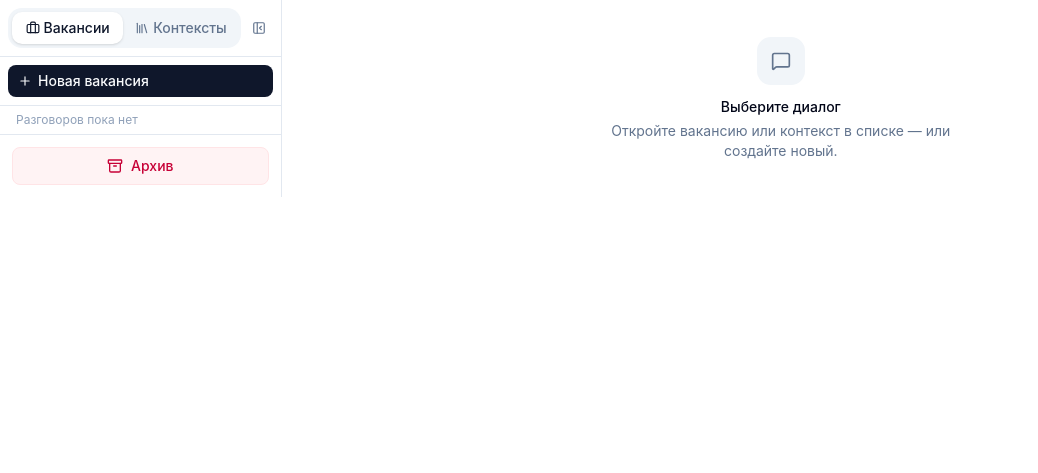
it: ChatPage — раздел «Чаты» › «Новая вакансия» открывает форму создания с полями друг под другом
Click the button "Новая вакансия" at (140, 81), box [8, 65, 273, 97]
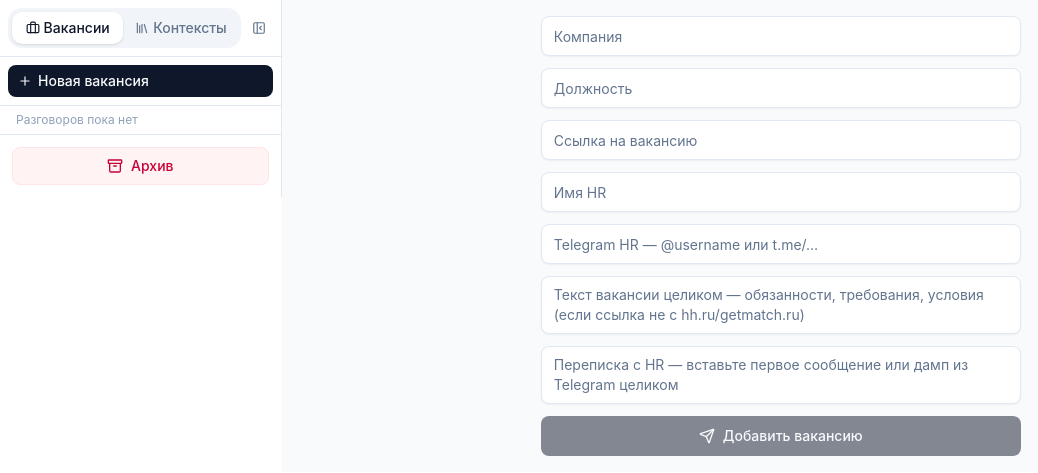
Check: the field with placeholder "Компания" is shown, box [541, 16, 1021, 56]
Check: the field with placeholder "Должность" is shown, box [541, 68, 1021, 108]
Check: the field with placeholder "Telegram HR — @username или t.me/…" is shown, box [541, 224, 1021, 264]
